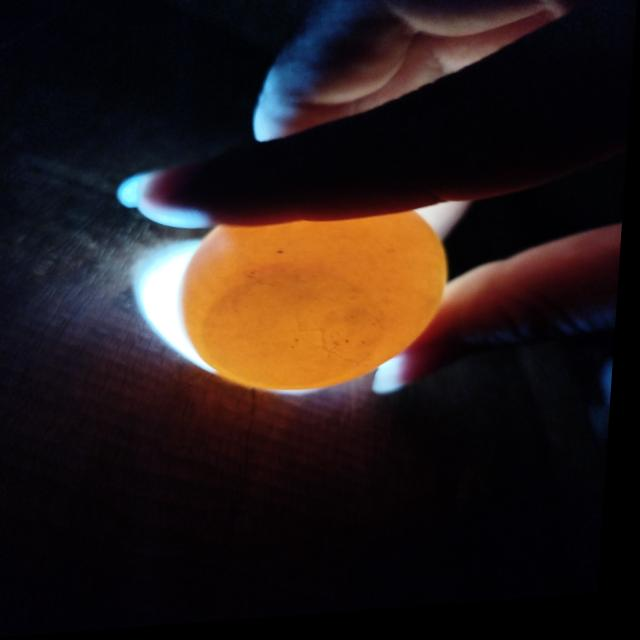Camara de Ar: (206, 273, 393, 390)
Rachadura: (300, 324, 360, 367)
